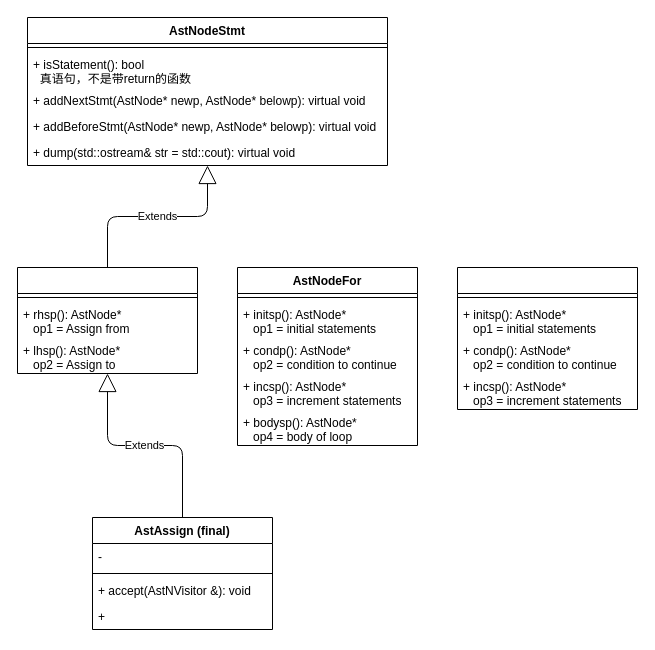
Image size: 655x650. Some labels were removed from this diagram. The shapes that lost their labels are listed below. From the top down, each one's box as (x1, y1, x2, y2) in pixels, then its label:
(16, 266, 198, 374): AstNodeAssign
(456, 266, 638, 410): AstNodeIf
